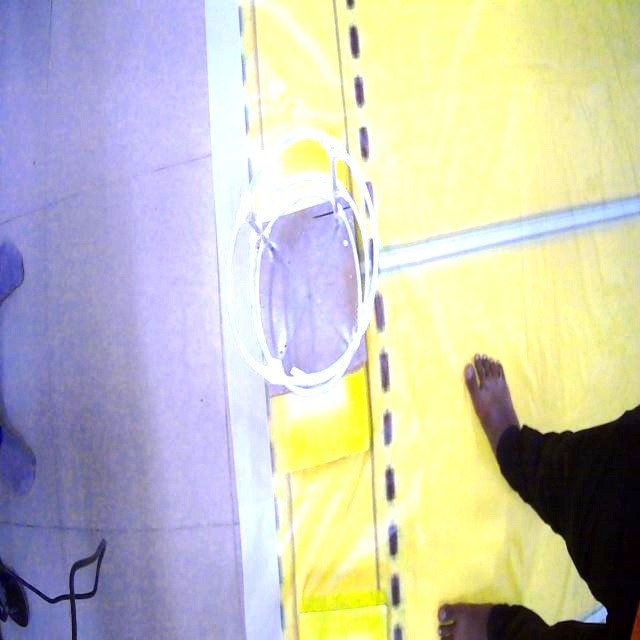silo: (225, 130, 376, 400)
